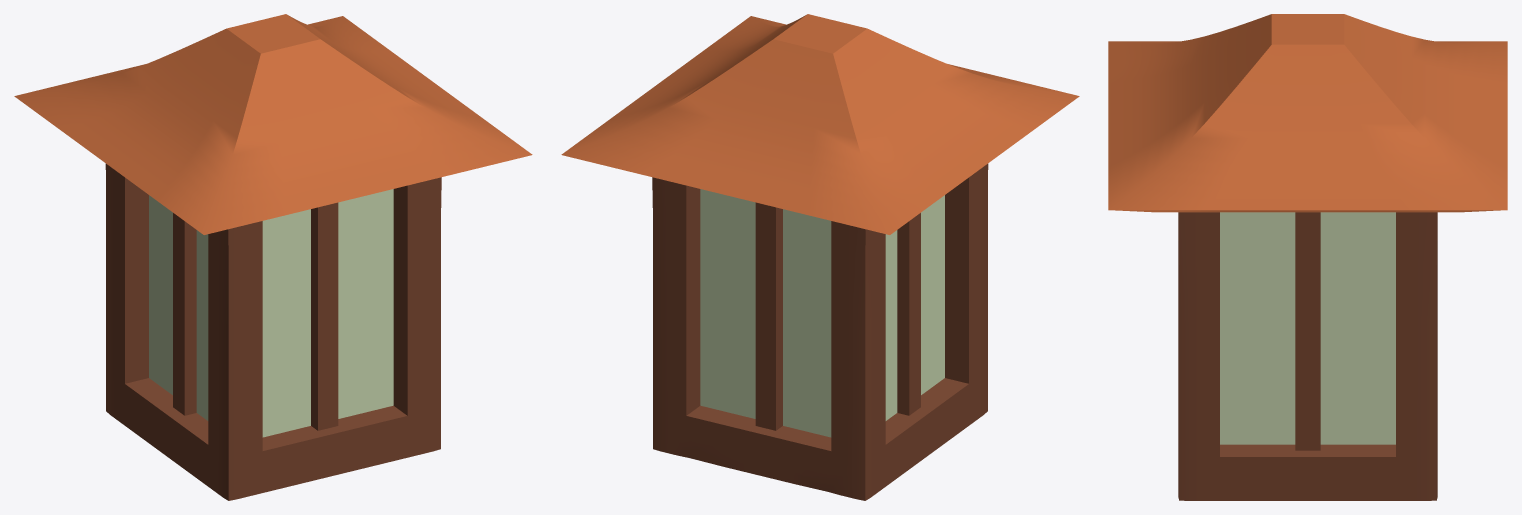
File: lamp_06.fbx
3 renders of one model, left to right at view 1: azimuth 30°, elevation 25°; view 2: azimuth 150°, elevation 25°; view 3: azimuth 270°, elevation 25°, orthographic. The views are drawn at different scales.
Parts seen in each view (by area): view 1: Cube.125; view 2: Cube.125; view 3: Cube.125.
Part boxes in pixels (box(x1,y1,x2,y2)): Cube.125: box(14, 14, 532, 500); Cube.125: box(561, 14, 1079, 500); Cube.125: box(1108, 14, 1507, 500).
Size of the model in its own units: 159 by 183 by 159.
